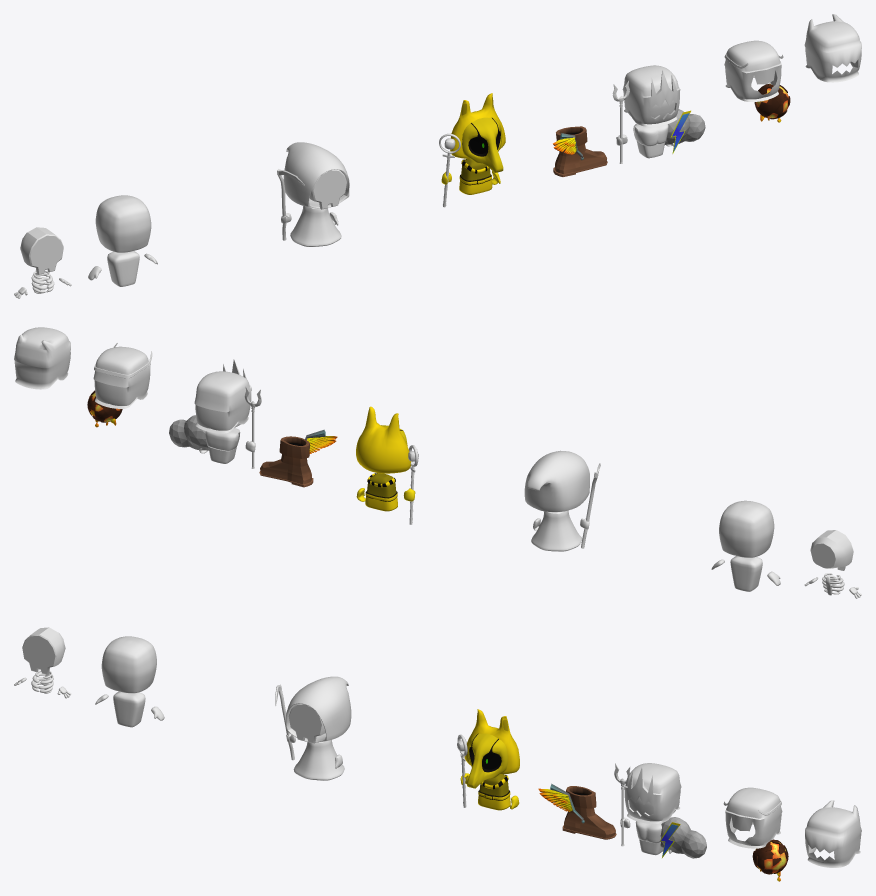
File: Anubis 1.fbx
3 views of the same model, one above another, from view 1: azimuth 30°, elevation 25°; view 2: azimuth 150°, elevation 25°; view 3: azimuth 330°, elevation 25° (orthographic).
Visible parts, largest first — view 1: BonecoTeste, BonecoTeste.003, BonecoTeste.002, CabecaAnubis, BonecoTeste.004, CapuzMorte, BotasHermes, TorçoMorte, Caveira, BonecoTeste.001, CabeçaMorte, TrovaoDeZeus (+3 smaller); view 2: BonecoTeste, CapuzMorte, BonecoTeste.004, BonecoTeste.002, BonecoTeste.003, CabecaAnubis, BotasHermes, TorçoMorte, Caveira, Anubis, BonecoTeste.001, TrovaoDeZeus (+2 smaller); view 3: BonecoTeste, BonecoTeste.003, CabecaAnubis, BonecoTeste.002, BonecoTeste.004, CapuzMorte, BotasHermes, TorçoMorte, Caveira, TrovaoDeZeus, BonecoTeste.001, CabeçaMorte (+3 smaller).
Part boxes in pixels (bbox=[...]): BonecoTeste: bbox=[88, 195, 157, 286]; BonecoTeste.003: bbox=[804, 14, 861, 82]; BonecoTeste.002: bbox=[724, 40, 783, 101]; CabecaAnubis: bbox=[450, 93, 505, 172]; BonecoTeste.004: bbox=[622, 65, 680, 126]; CapuzMorte: bbox=[283, 142, 349, 208]; BotasHermes: bbox=[553, 126, 607, 176]; TorçoMorte: bbox=[290, 206, 341, 246]; Caveira: bbox=[20, 227, 63, 274]; BonecoTeste.001: bbox=[616, 100, 675, 158]; CabeçaMorte: bbox=[309, 169, 346, 209]; TrovaoDeZeus: bbox=[664, 109, 705, 153]; BonecoTeste: bbox=[711, 500, 780, 591]; CapuzMorte: bbox=[524, 450, 589, 512]; BonecoTeste.004: bbox=[194, 359, 251, 433]; BonecoTeste.002: bbox=[93, 342, 152, 408]; BonecoTeste.003: bbox=[14, 327, 70, 389]; CabecaAnubis: bbox=[356, 406, 411, 473]; BotasHermes: bbox=[259, 429, 337, 487]; TorçoMorte: bbox=[531, 510, 582, 551]; Caveira: bbox=[810, 530, 853, 570]; Anubis: bbox=[365, 473, 397, 511]; BonecoTeste.001: bbox=[199, 423, 255, 463]; TrovaoDeZeus: bbox=[169, 415, 208, 450]; BonecoTeste: bbox=[95, 636, 164, 727]; BonecoTeste.003: bbox=[805, 800, 861, 867]; CabecaAnubis: bbox=[464, 709, 519, 788]; BonecoTeste.002: bbox=[723, 787, 782, 848]; BonecoTeste.004: bbox=[624, 763, 681, 823]; CapuzMorte: bbox=[286, 676, 351, 742]; BotasHermes: bbox=[538, 783, 616, 839]; TorçoMorte: bbox=[293, 740, 344, 780]; Caveira: bbox=[22, 627, 65, 674]; TrovaoDeZeus: bbox=[660, 817, 706, 858]; BonecoTeste.001: bbox=[620, 797, 675, 855]; CabeçaMorte: bbox=[288, 703, 325, 743].
Size of what is drawn, in the model's own units: 3510 by 419 by 293.
